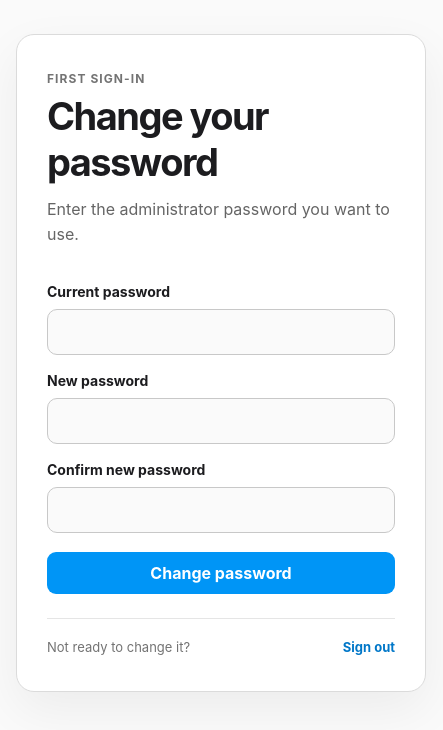
Scenario: ChangePasswordPage › shows a safe API error and permits a retry
Type "incorrect-current-password" into the password field labelled "Current password" at (221, 332), box [47,309,395,355]
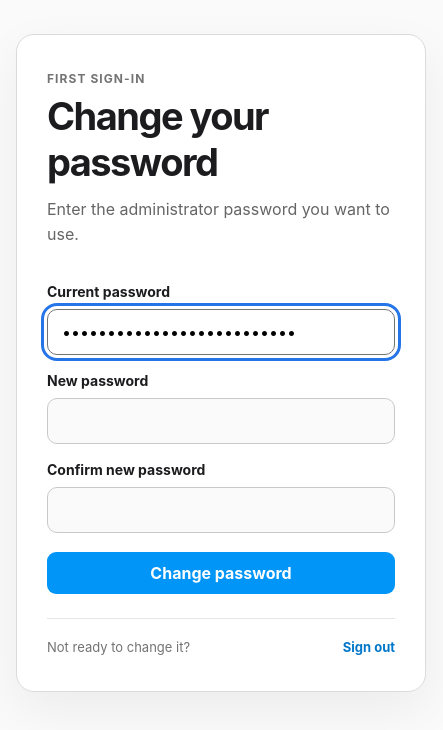
Type "different-long-owner-password" into the password field labelled "New password" at (221, 421), box [47,398,395,444]
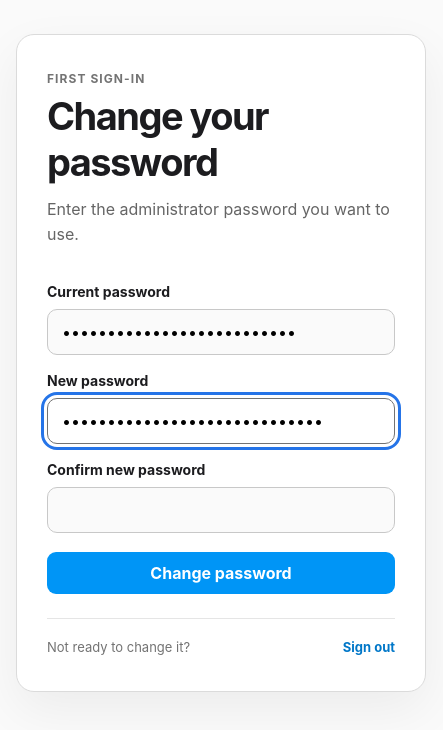
Type "different-long-owner-password" into the password field labelled "Confirm new password" at (221, 510), box [47,487,395,533]
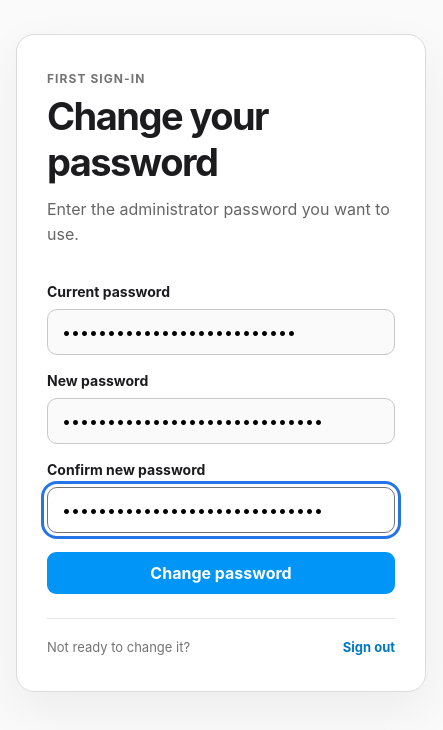
Click the button "Change password" at (221, 573), box [47,552,395,594]
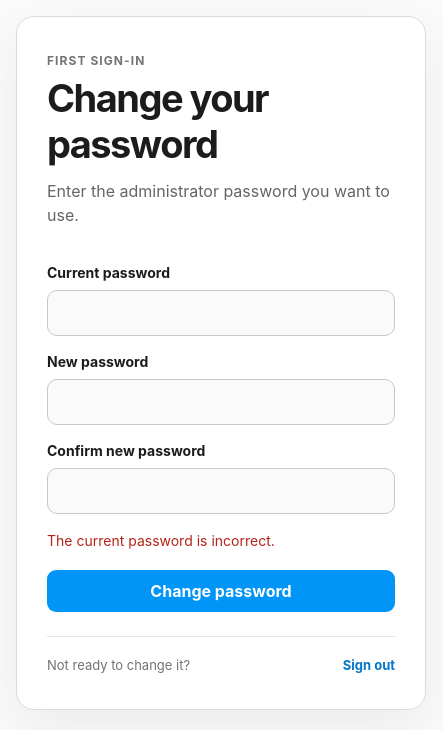
Expected: the button "Change password" is enabled, [47,570,395,612]
Result: the text "The current password is incorrect." is shown at [47,532,275,549]
Result: the password field labelled "Current password" is empty at [47,290,395,336]
